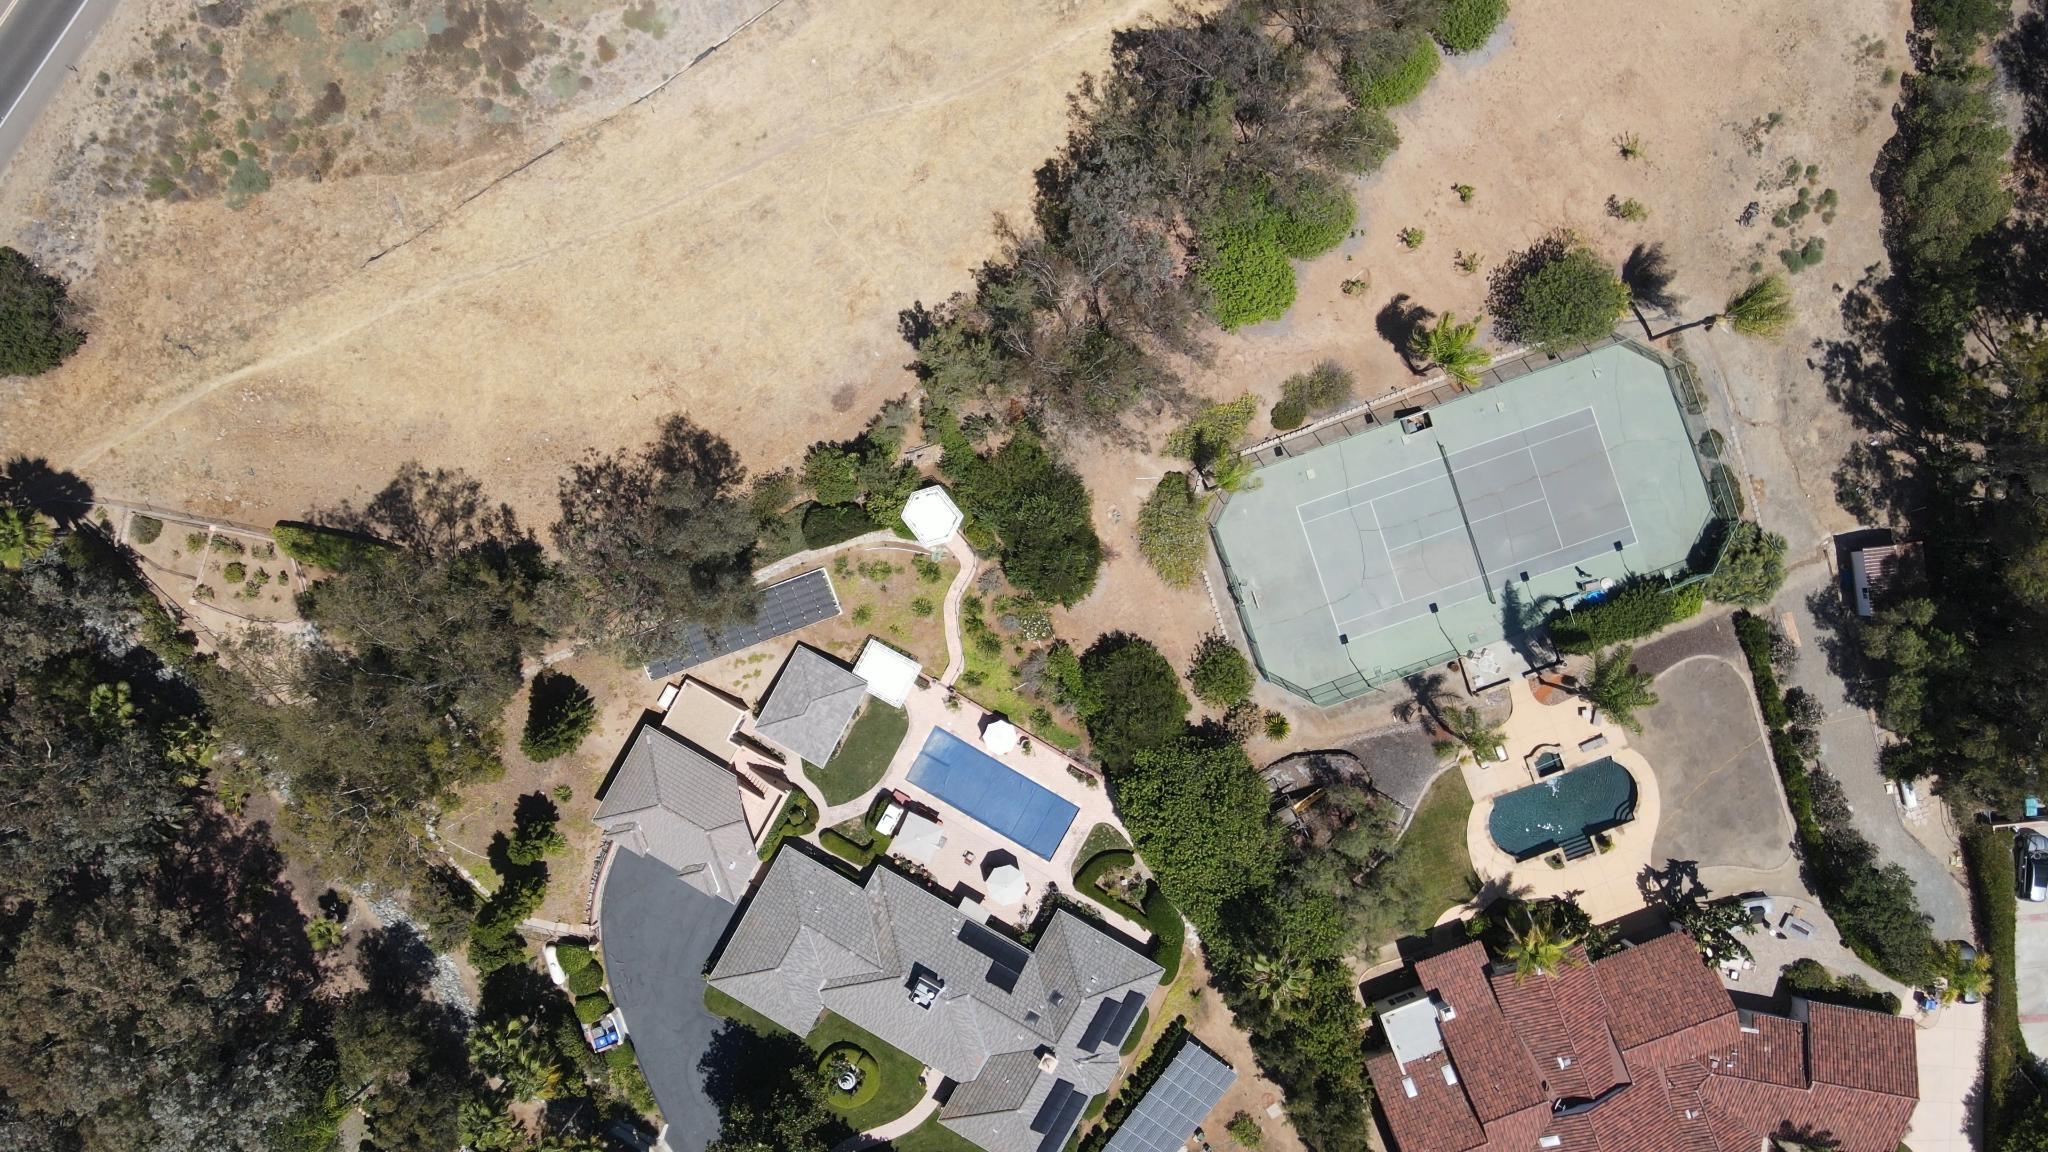solar-panels: (632, 570, 840, 682), (1101, 1041, 1238, 1152), (955, 919, 1031, 994), (1076, 989, 1145, 1055), (1028, 1077, 1089, 1152)
